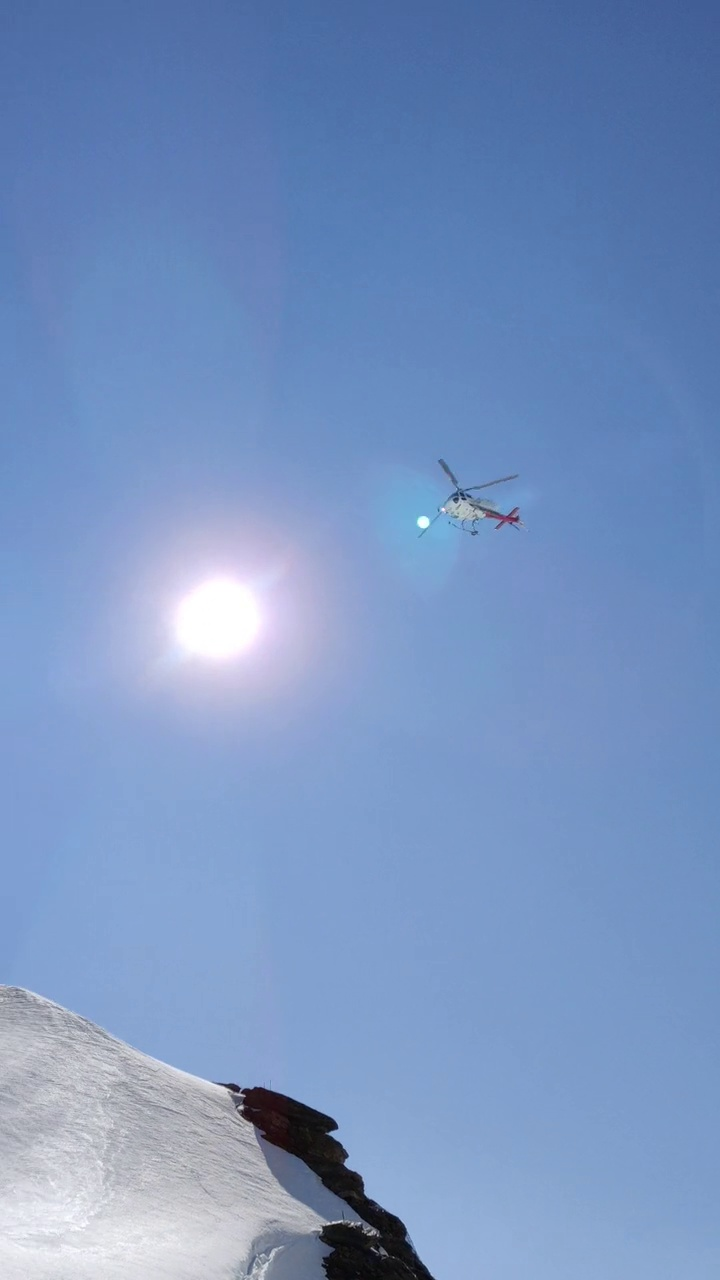heli: (416, 459, 522, 541)
